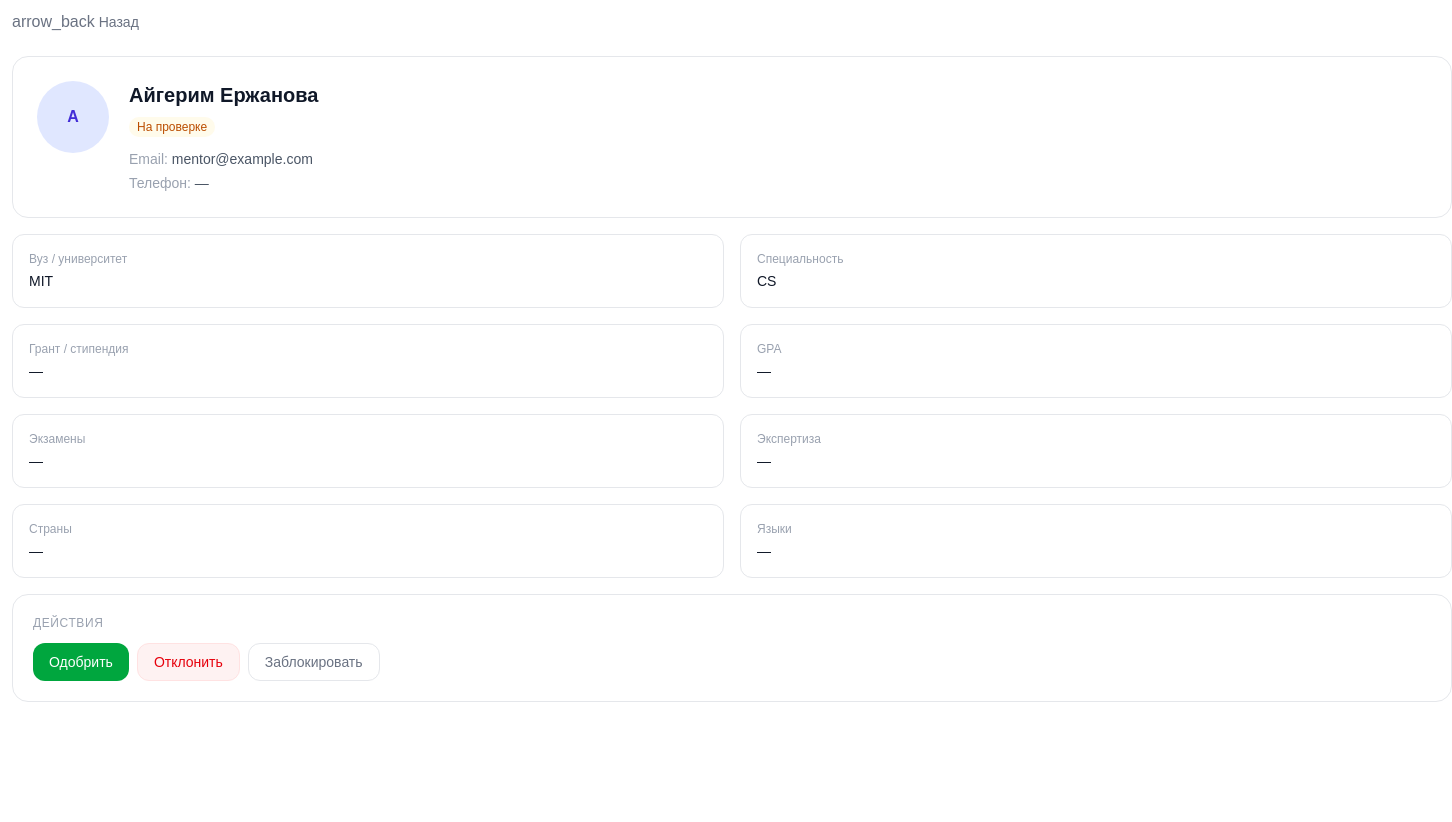
Test case: CRMMentorDetailPage › shows an error message and stays on the page when an action fails
The width and height of the screenshot is (1452, 822).
Check: the heading "Айгерим Ержанова" is shown, box [129, 84, 318, 106]
Click the button "Одобрить" at (81,662), box [33, 643, 129, 681]
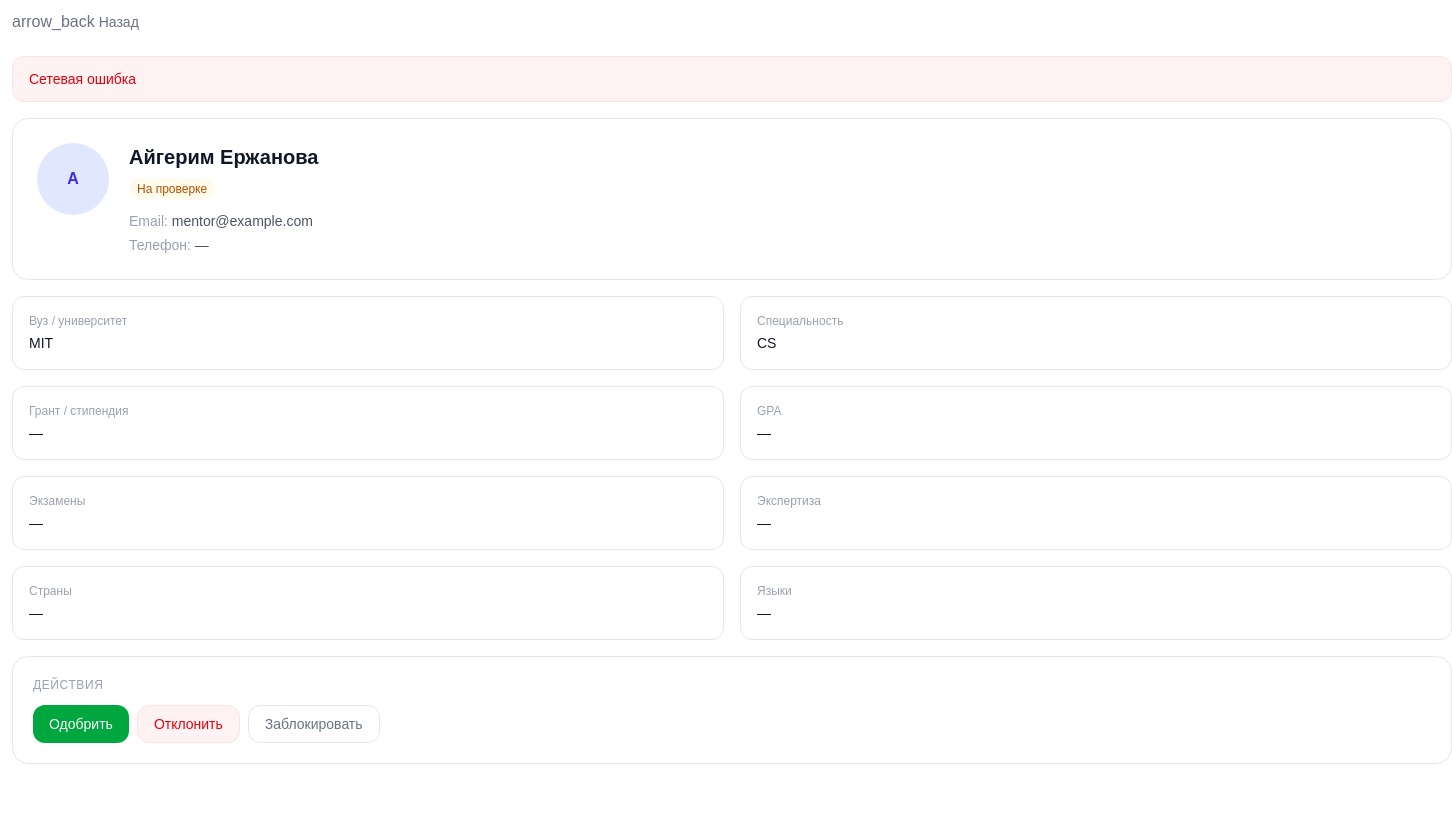
Check: the text "Сетевая ошибка" is shown, box [12, 56, 1451, 102]
